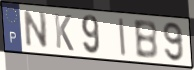9: (161, 21, 185, 64), (81, 14, 103, 56)
B: (132, 19, 160, 61)
I: (117, 17, 127, 59)
K: (52, 11, 75, 53)
N: (23, 9, 49, 50)
